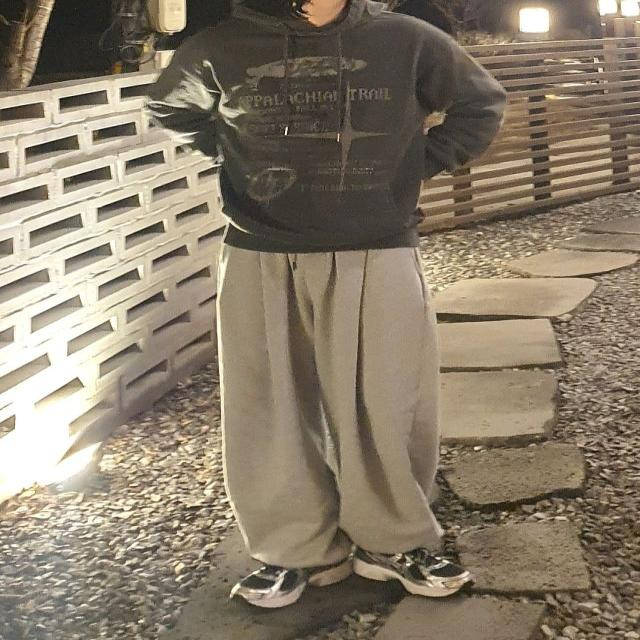hoodies: (166, 4, 505, 253)
slacks: (215, 242, 442, 576)
